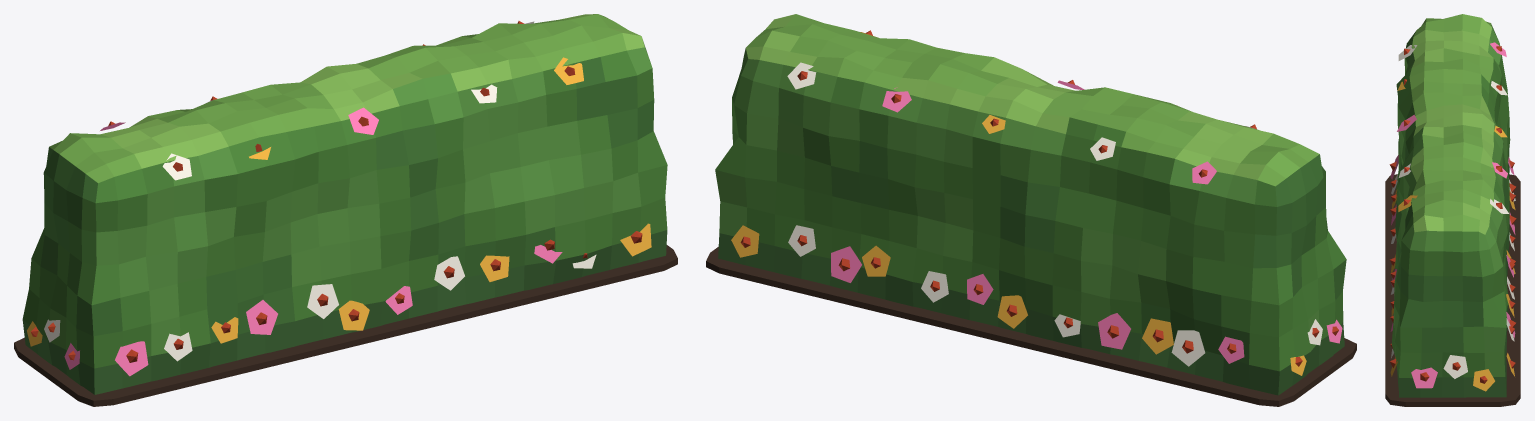
File: Lobby_Hedge.fbx
3 views of the same model, side by side, from view 1: azimuth 30°, elevation 25°; view 2: azimuth 150°, elevation 25°; view 3: azimuth 270°, elevation 25° (orthographic). The views are drawn at different scales.
Visible parts, largest first — view 1: LeavesSide, LeavesSideLight, LeavesSideDark, LeavesTop, LeavesFoot, Mulch, LeavesTopBright, FlowersWhite, FlowersPink, FlowersGold, FlowerEyes; view 2: LeavesSide, LeavesSideLight, LeavesTop, LeavesSideDark, LeavesFoot, LeavesTopBright, Mulch, FlowersPink, FlowersWhite, FlowersGold, FlowerEyes; view 3: LeavesTop, LeavesSide, LeavesSideDark, LeavesTopBright, Mulch, LeavesSideLight, LeavesFoot, FlowerEyes, FlowersWhite, FlowersPink, FlowersGold.
Boxes of the visible parts, x1,y1,x2,y2 form: LeavesSide: [22, 50, 667, 368]; LeavesSideLight: [48, 39, 652, 355]; LeavesSideDark: [40, 57, 656, 343]; LeavesTop: [49, 14, 628, 182]; LeavesFoot: [22, 230, 667, 394]; Mulch: [14, 245, 677, 406]; LeavesTopBright: [100, 14, 644, 168]; FlowersWhite: [44, 21, 596, 361]; FlowersPink: [64, 107, 562, 376]; FlowersGold: [27, 57, 651, 346]; FlowerEyes: [31, 21, 642, 362]; LeavesSide: [715, 53, 1346, 371]; LeavesSideLight: [715, 48, 1318, 351]; LeavesTop: [746, 14, 1319, 186]; LeavesSideDark: [831, 141, 1346, 364]; LeavesFoot: [718, 233, 1344, 395]; LeavesTopBright: [746, 14, 1273, 179]; Mulch: [706, 247, 1356, 406]; FlowersPink: [831, 80, 1342, 363]; FlowersWhite: [787, 62, 1322, 366]; FlowersGold: [731, 32, 1306, 375]; FlowerEyes: [740, 30, 1338, 366]; LeavesTop: [1409, 14, 1495, 231]; LeavesSide: [1391, 24, 1510, 378]; LeavesSideDark: [1395, 143, 1509, 377]; LeavesTopBright: [1410, 18, 1494, 234]; Mulch: [1385, 174, 1520, 406]; LeavesSideLight: [1393, 28, 1507, 376]; LeavesFoot: [1392, 169, 1509, 397]; FlowerEyes: [1389, 46, 1516, 383]; FlowersWhite: [1391, 45, 1515, 378]; FlowersPink: [1390, 42, 1515, 388]; FlowersGold: [1390, 81, 1515, 391].
Size of the model in its own units: 800 by 299 by 200.
